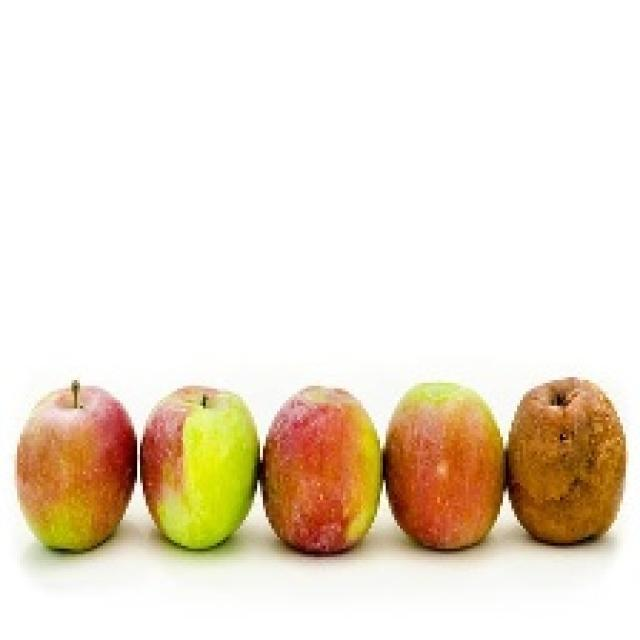apple: (17, 381, 137, 550), (263, 386, 380, 553), (509, 377, 626, 543), (386, 383, 503, 549), (143, 386, 258, 549)
